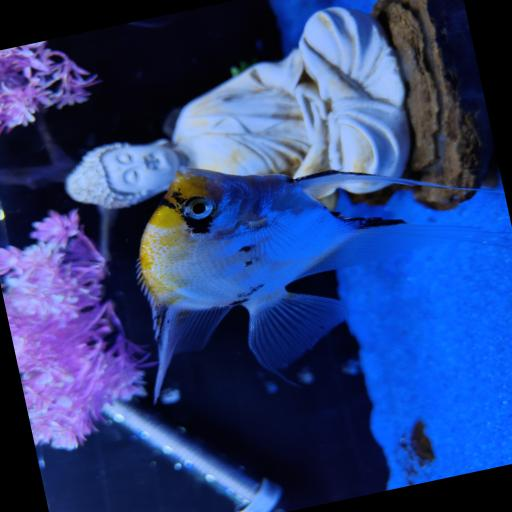Fish: (138, 167, 511, 401)
